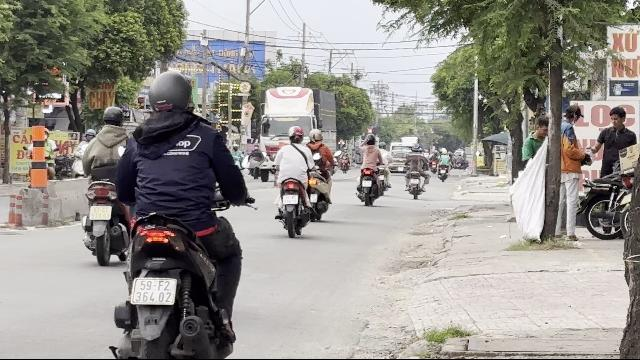helmet: (146, 68, 194, 115), (101, 105, 123, 127), (288, 125, 304, 143)
licenseplate: (132, 278, 176, 304), (90, 206, 110, 221), (283, 195, 297, 205)
motorcyclist: (107, 68, 251, 356), (76, 104, 132, 264), (272, 124, 312, 236)
